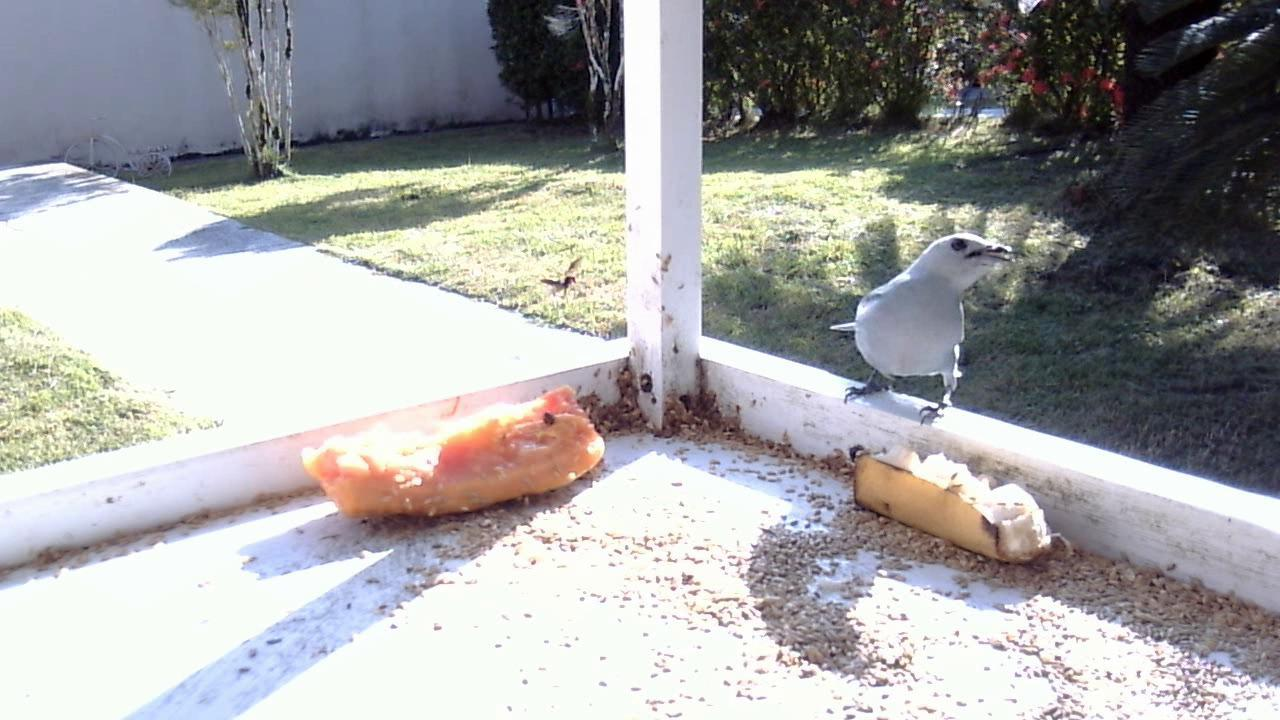sanhaco_da_amazonia: (824, 228, 1018, 428)
